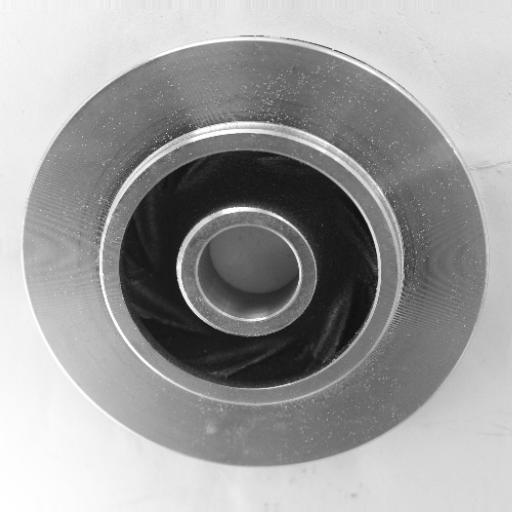polished_casting: (24, 32, 493, 471)
